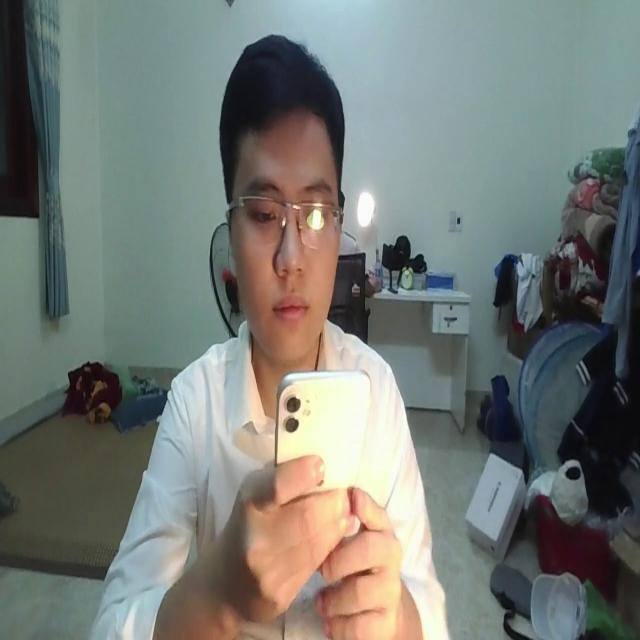phone: (273, 361, 369, 581)
student: (90, 30, 442, 640)
